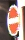No entry: (5, 5, 20, 34)
